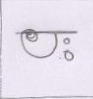anusvara: (64, 38, 70, 44)
